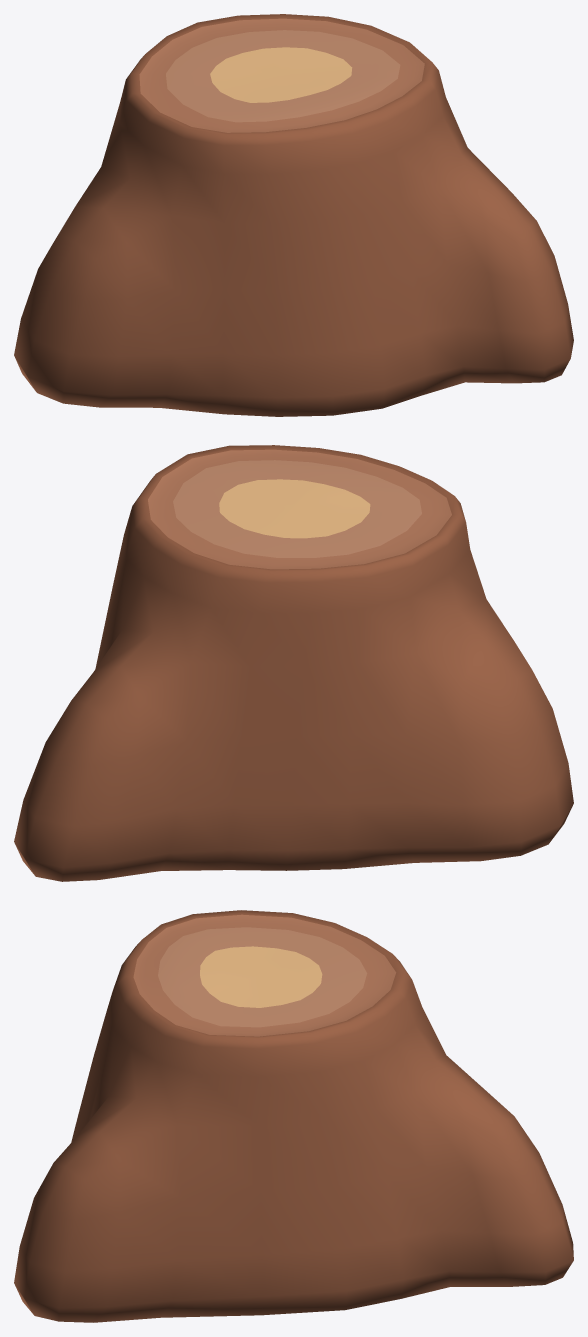
File: Stump_B_01.fbx
3 renders of one model, top to bottom at view 1: azimuth 30°, elevation 25°; view 2: azimuth 150°, elevation 25°; view 3: azimuth 270°, elevation 25°, orthographic. The views are drawn at different scales.
Visible parts, largest first — view 1: Stump_B_01_LOD0; view 2: Stump_B_01_LOD0; view 3: Stump_B_01_LOD0.
Boxes of the visible parts, x1=… form: Stump_B_01_LOD0: x1=14, y1=14, x2=573, y2=416; Stump_B_01_LOD0: x1=14, y1=445, x2=573, y2=881; Stump_B_01_LOD0: x1=14, y1=910, x2=573, y2=1322.
Size of what is drawn, in the model's own units: 385 by 223 by 420.
